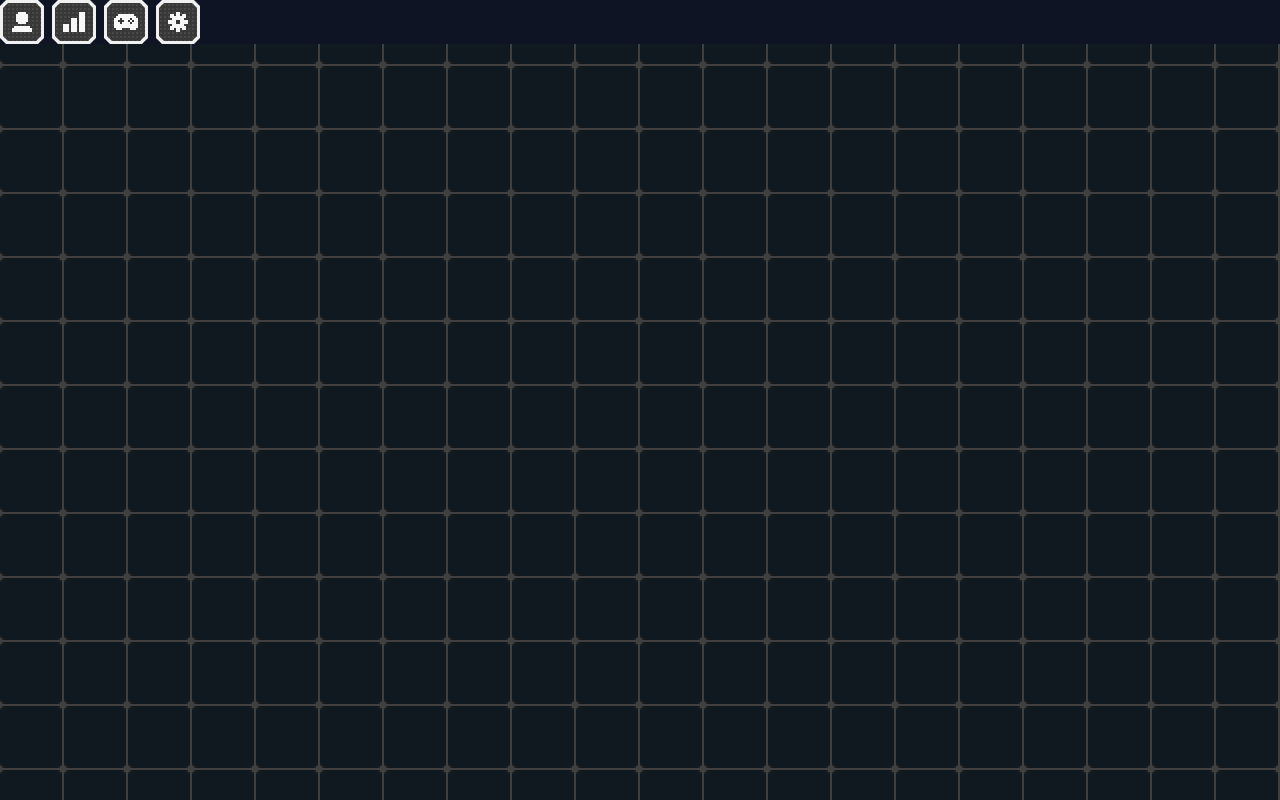
cuenta en la interfaz (UT-100) › Rankings sin cuenta: se ven, con la invitación a iniciar sesión y sin vista de amigos (RF-109)
Click the button named "Estadísticas" at point(74, 22), box x1=52 y1=0 x2=96 y2=44
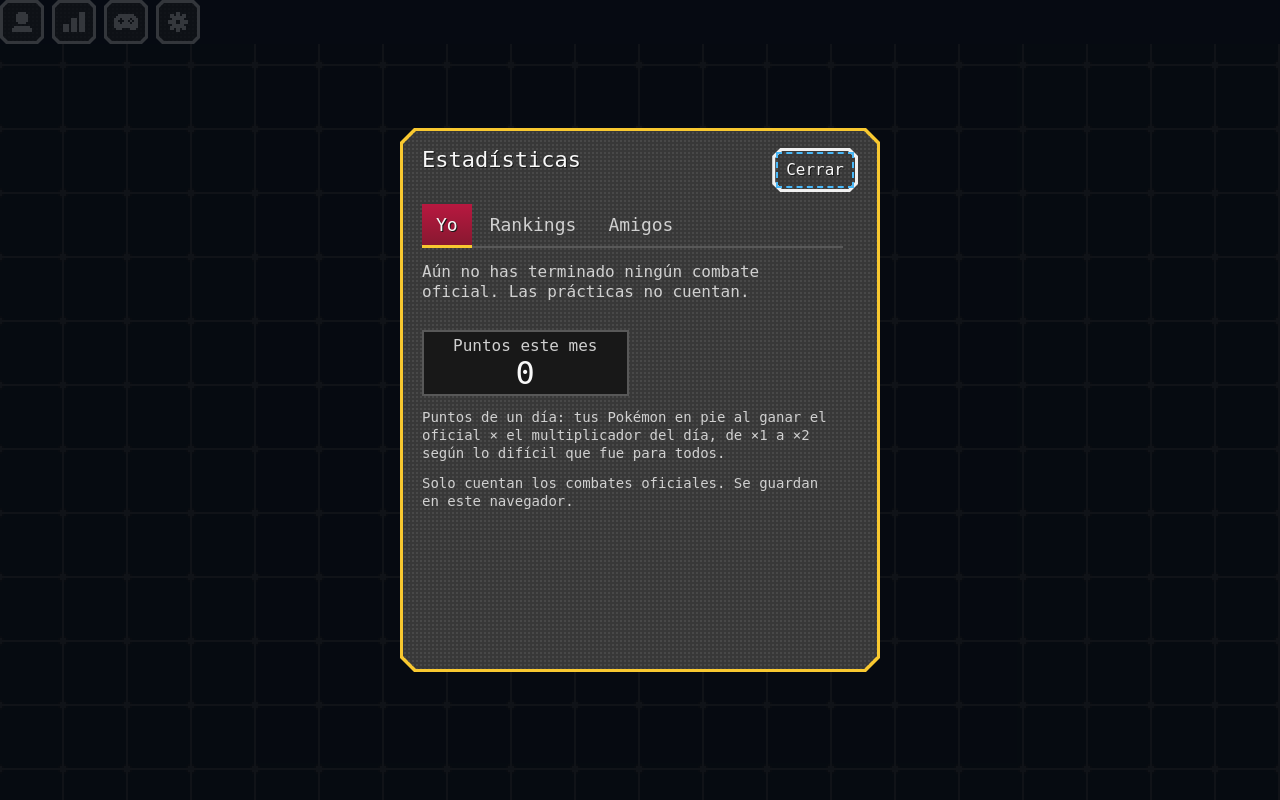
Click the tab "Rankings" at point(533, 226), box x1=476 y1=204 x2=590 y2=248
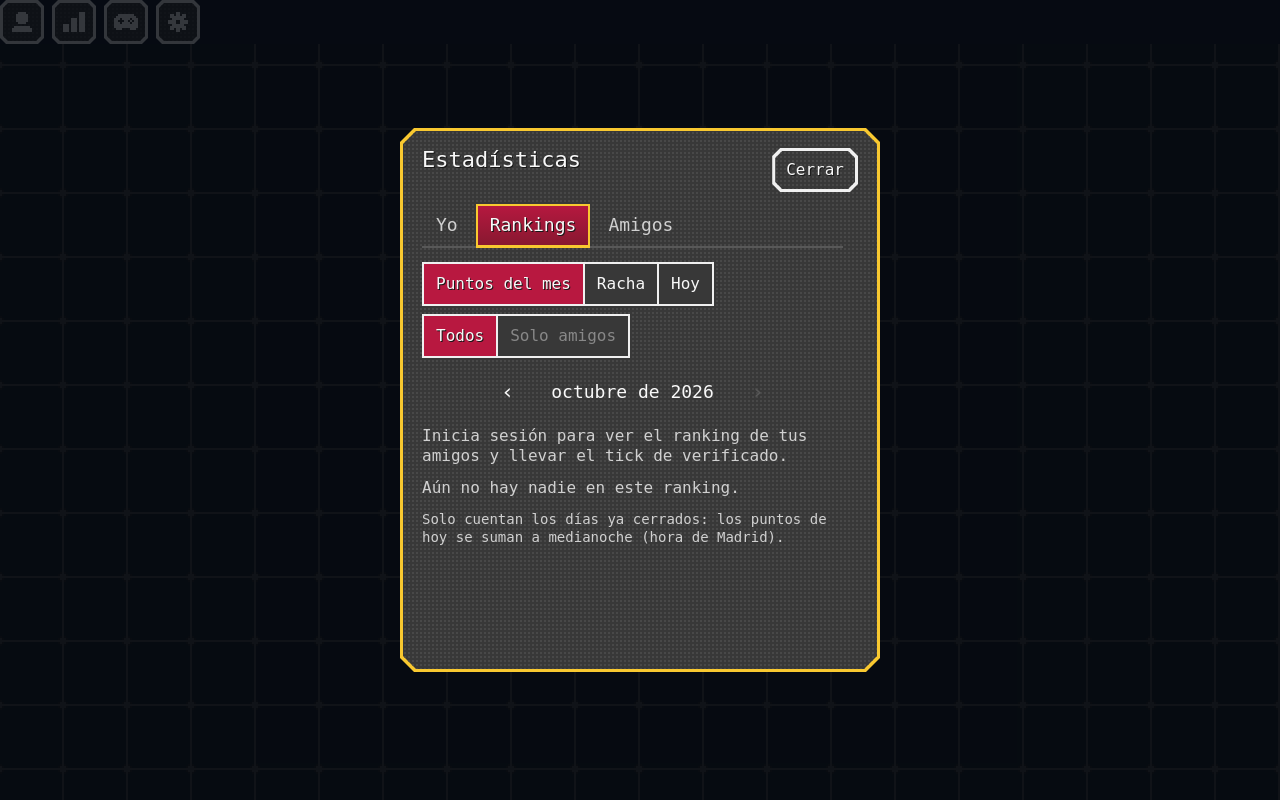
Check: the text "Inicia sesión para ver el ranking de tus amigos" is shown, box x1=422 y1=426 x2=807 y2=465
Check: the button "Solo amigos" is disabled, box x1=496 y1=316 x2=628 y2=356
Click the tab "Amigos" at point(641, 226), box x1=594 y1=204 x2=687 y2=248
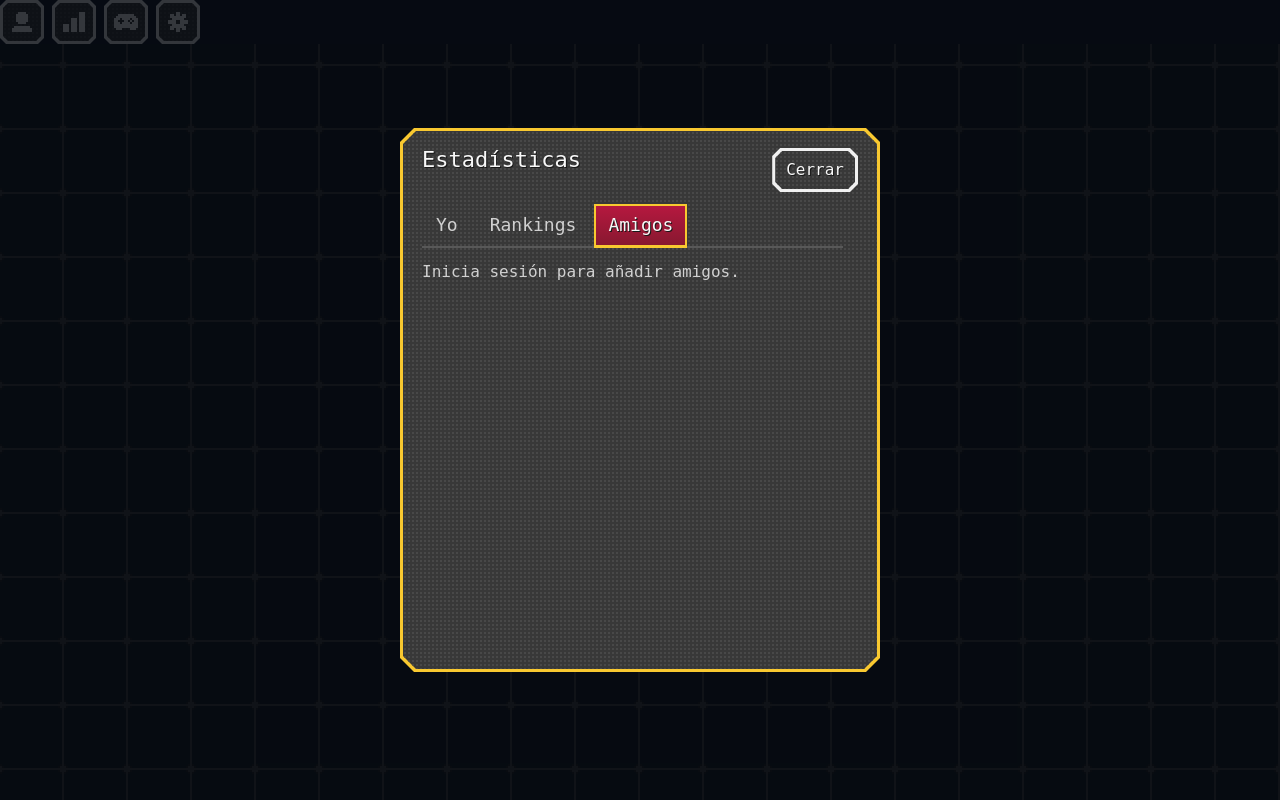
Check: the text "Inicia sesión para añadir amigos." is shown, box x1=422 y1=262 x2=740 y2=281
